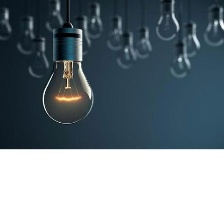light_bulb: (38, 19, 98, 127), (152, 0, 183, 43), (24, 40, 52, 79), (14, 19, 40, 58), (179, 17, 202, 61), (202, 3, 224, 47), (114, 32, 137, 72), (103, 17, 128, 53), (168, 41, 190, 81), (131, 23, 154, 61), (40, 2, 67, 34), (83, 4, 105, 41), (0, 6, 14, 48)
